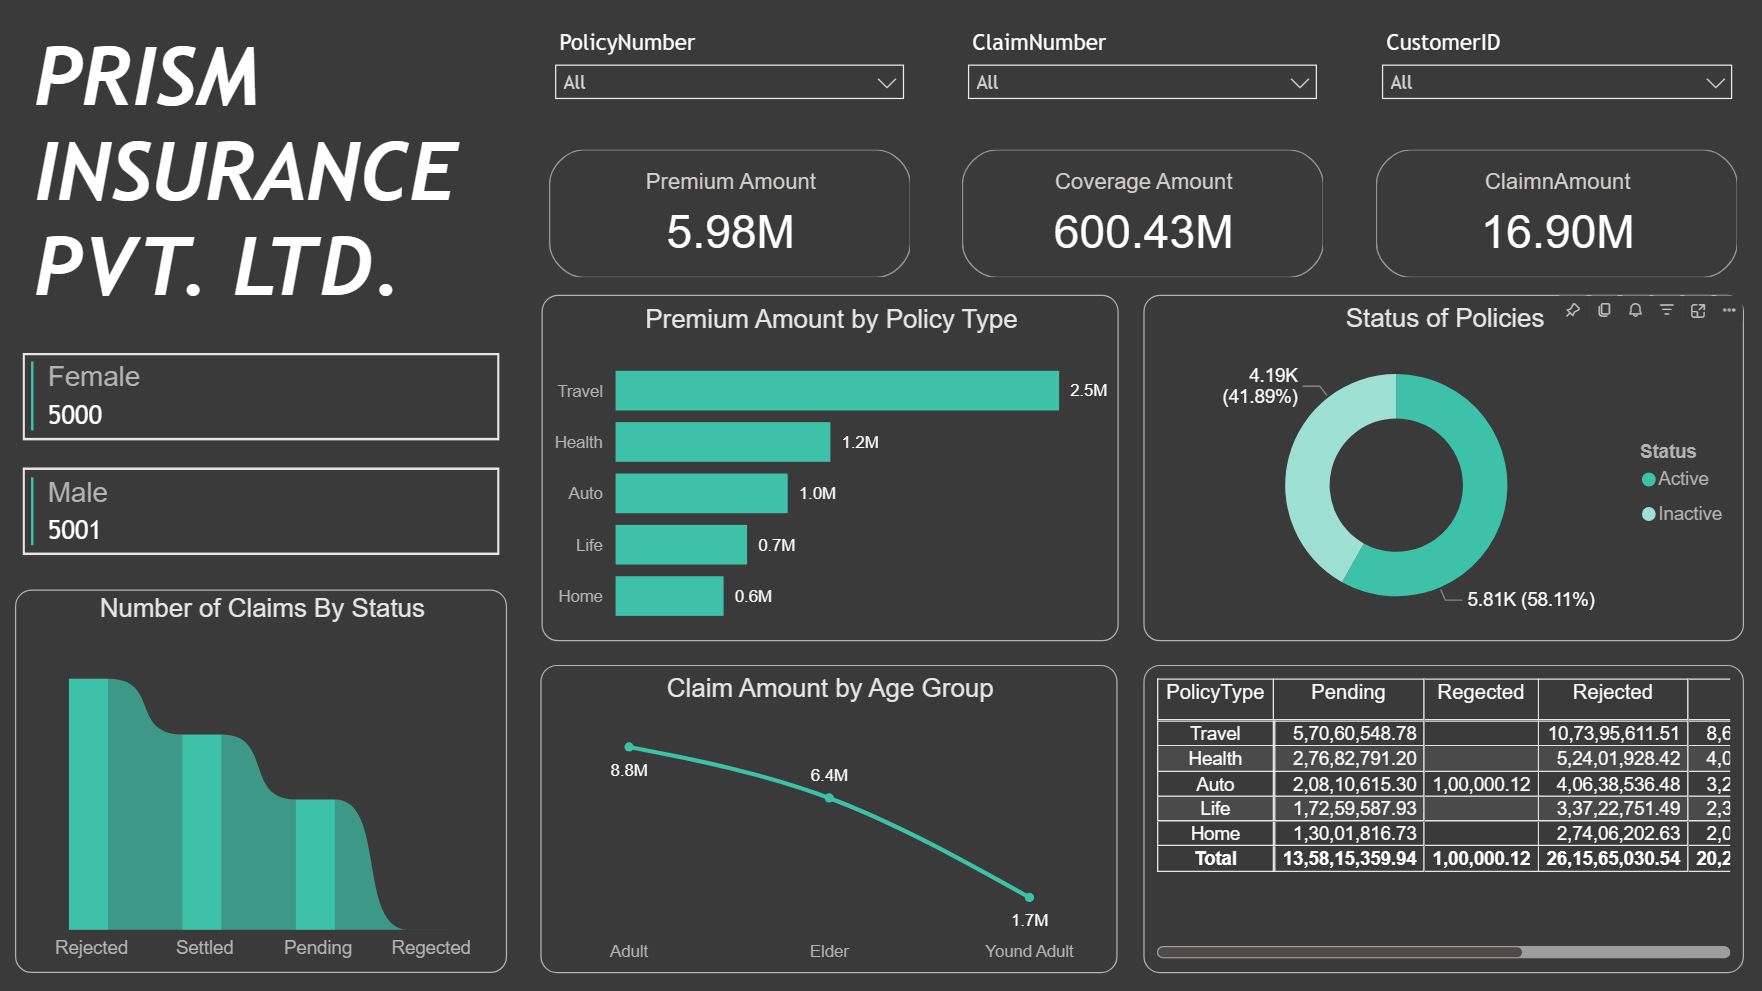

The page's visual inventory and layout, read from the dashboard file:
{"tool":"powerbi","page":{"name":"Page 1","canvas":[1280,720],"ordinal":0},"visuals":[{"type":"slicer","fields":{"Values":["InsuranceData.PolicyNumber"]},"box":[392.1,15.7,271.4,78.4],"z":0},{"type":"slicer","fields":{"Values":["InsuranceData.ClaimNumber"]},"box":[690.1,15.7,271.4,78.4],"z":1000},{"type":"slicer","fields":{"Values":["InsuranceData.CustomerID"]},"box":[988.1,15.7,272.7,78.4],"z":2000},{"type":"textbox","box":[21.7,15.7,346.2,232.8],"z":3000},{"type":"cardVisual","fields":{"Data":["Sum(InsuranceData.PremiumAmount)"]},"box":[392.1,102.5,271.4,103.8],"z":4000},{"type":"cardVisual","fields":{"Data":["Sum(InsuranceData.CoverageAmount)"]},"box":[690.1,102.5,271.4,103.8],"z":5000},{"type":"cardVisual","fields":{"Data":["Sum(InsuranceData.ClaimAmount)"]},"box":[988.1,102.5,271.4,103.8],"z":6000},{"type":"multiRowCard","fields":{"Values":["InsuranceData.Gender","CountNonNull(InsuranceData.Gender)"]},"box":[13.3,248.5,354.7,176.1],"z":7000},{"type":"ribbonChart","title":"Number of Claims By Status","fields":{"Category":["InsuranceData.ClaimStatus"],"Y":["CountNonNull(InsuranceData.ClaimStatus)"]},"box":[13.3,424.7,354.7,276.3],"z":8000},{"type":"barChart","title":" Premium Amount by Policy Type","fields":{"Category":["InsuranceData.PolicyType"],"Y":["Sum(InsuranceData.PremiumAmount)"]},"box":[392.1,212.3,416.2,249.7],"z":9000},{"type":"lineChart","title":"Claim Amount by Age Group","fields":{"Category":["InsuranceData.Age Group"],"Y":["Sum(InsuranceData.ClaimAmount)"]},"box":[392,479,416,222],"z":10000},{"type":"donutChart","title":" Status of Policies","fields":{"Category":["InsuranceData.Status"],"Y":["CountNonNull(InsuranceData.Status)"]},"box":[826.4,212.3,433.1,249.7],"z":11000},{"type":"pivotTable","fields":{"Values":["Sum(InsuranceData.CoverageAmount)"],"Columns":["InsuranceData.ClaimStatus"],"Rows":["InsuranceData.PolicyType"]},"box":[826,479,433,222],"z":12000}]}

Visuals, with their boxes in screenshot pixels (x1, y1, x2, y2), scaled from the page's 1280x720 canvas onto the 1762x991 screenshot:
slicer - InsuranceData.PolicyNumber: (x1=540, y1=22, x2=913, y2=130)
slicer - InsuranceData.ClaimNumber: (x1=950, y1=22, x2=1324, y2=130)
slicer - InsuranceData.CustomerID: (x1=1360, y1=22, x2=1736, y2=130)
textbox: (x1=30, y1=22, x2=506, y2=342)
cardVisual - Sum(InsuranceData.PremiumAmount): (x1=540, y1=141, x2=913, y2=284)
cardVisual - Sum(InsuranceData.CoverageAmount): (x1=950, y1=141, x2=1324, y2=284)
cardVisual - Sum(InsuranceData.ClaimAmount): (x1=1360, y1=141, x2=1734, y2=284)
multiRowCard - InsuranceData.Gender x CountNonNull(InsuranceData.Gender): (x1=18, y1=342, x2=507, y2=584)
"Number of Claims By Status" ribbonChart: (x1=18, y1=585, x2=507, y2=965)
" Premium Amount by Policy Type" barChart: (x1=540, y1=292, x2=1113, y2=636)
"Claim Amount by Age Group" lineChart: (x1=540, y1=659, x2=1112, y2=965)
" Status of Policies" donutChart: (x1=1138, y1=292, x2=1734, y2=636)
pivotTable - Sum(InsuranceData.CoverageAmount) x InsuranceData.ClaimStatus: (x1=1137, y1=659, x2=1733, y2=965)
